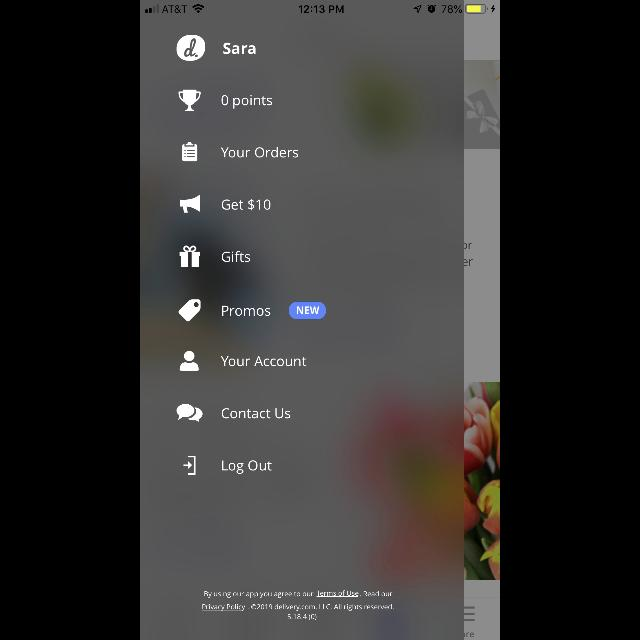icon: (179, 299, 201, 321), (177, 404, 203, 422), (180, 246, 200, 268), (180, 351, 198, 372), (182, 142, 198, 162), (184, 456, 196, 474)
image: (177, 35, 206, 61), (179, 90, 201, 112), (180, 195, 200, 213)
panel: (140, 1, 463, 640)
text: (202, 590, 394, 612), (222, 146, 298, 158), (221, 356, 307, 366), (222, 460, 272, 474), (222, 95, 272, 109), (222, 408, 290, 418), (222, 199, 270, 211), (223, 306, 271, 316), (224, 42, 256, 54), (222, 252, 250, 262), (288, 614, 316, 620)
textbutton: (290, 302, 326, 320)
uppertaskbar: (140, 0, 500, 14)
